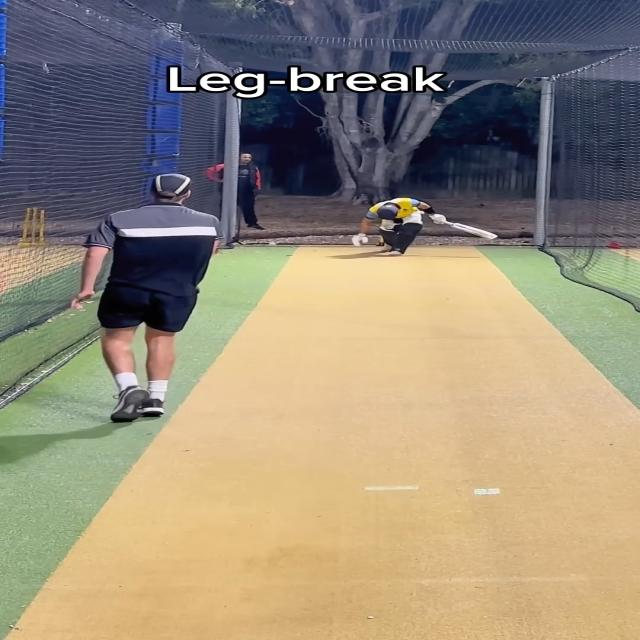Cricket ball: (268, 242, 276, 247)
